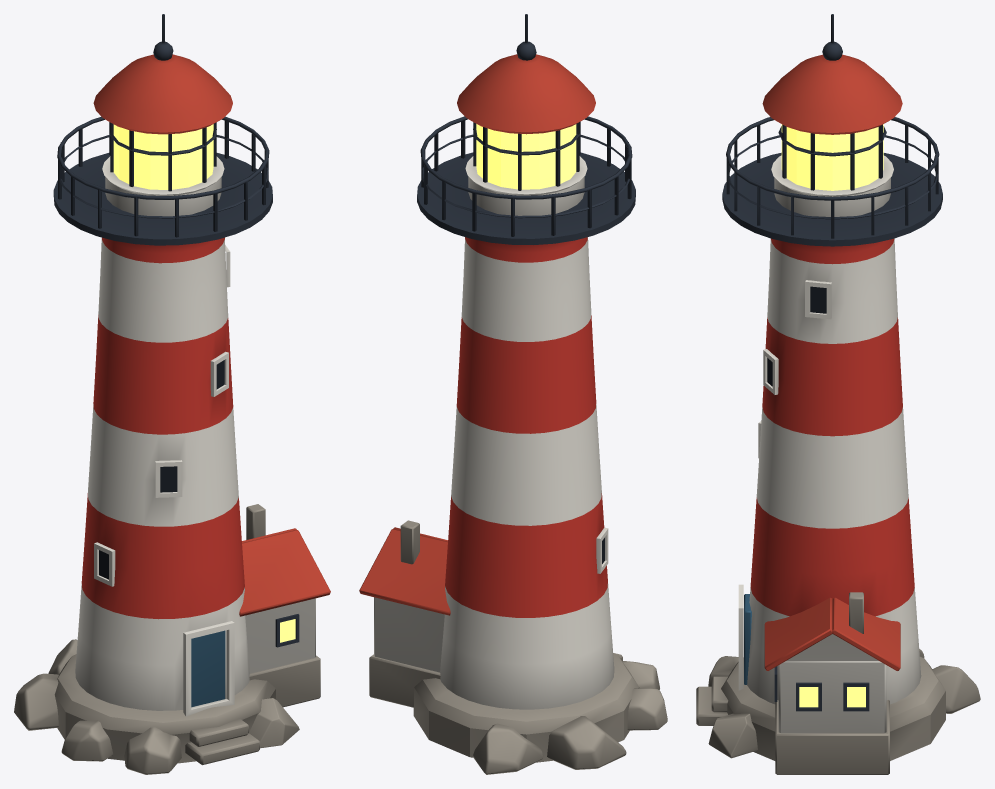
Rendered from lighthouse.glb.
3 views of the same model, side by side, from view 1: azimuth 30°, elevation 25°; view 2: azimuth 150°, elevation 25°; view 3: azimuth 270°, elevation 25° (orthographic).
Parts seen in each view (by area): view 1: Lighthouse Lighthouse white, Lighthouse Lighthouse red, Lighthouse Lighthouse stone, Lighthouse Lighthouse trim, Lighthouse Lighthouse roof, Lighthouse Lighthouse lamp, Lighthouse Lighthouse door; view 2: Lighthouse Lighthouse white, Lighthouse Lighthouse red, Lighthouse Lighthouse stone, Lighthouse Lighthouse trim, Lighthouse Lighthouse roof, Lighthouse Lighthouse lamp; view 3: Lighthouse Lighthouse white, Lighthouse Lighthouse red, Lighthouse Lighthouse stone, Lighthouse Lighthouse trim, Lighthouse Lighthouse roof, Lighthouse Lighthouse lamp, Lighthouse Lighthouse door.
Part boxes in pixels (box(x1,y1,x2,y2)): Lighthouse Lighthouse white: box(75, 156, 315, 716); Lighthouse Lighthouse red: box(81, 237, 244, 619); Lighthouse Lighthouse stone: box(14, 504, 320, 774); Lighthouse Lighthouse trim: box(53, 14, 299, 647); Lighthouse Lighthouse roof: box(93, 54, 330, 616); Lighthouse Lighthouse lamp: box(113, 124, 295, 642); Lighthouse Lighthouse door: box(191, 630, 225, 707); Lighthouse Lighthouse white: box(374, 156, 614, 709); Lighthouse Lighthouse red: box(445, 237, 607, 617); Lighthouse Lighthouse stone: box(369, 520, 667, 774); Lighthouse Lighthouse trim: box(417, 14, 635, 563); Lighthouse Lighthouse roof: box(359, 54, 595, 615); Lighthouse Lighthouse lamp: box(476, 124, 576, 189); Lighthouse Lighthouse white: box(738, 155, 921, 733); Lighthouse Lighthouse red: box(750, 238, 914, 616); Lighthouse Lighthouse stone: box(696, 592, 980, 774); Lighthouse Lighthouse trim: box(722, 14, 942, 711); Lighthouse Lighthouse roof: box(762, 54, 902, 670); Lighthouse Lighthouse lamp: box(781, 124, 883, 707); Lighthouse Lighthouse door: box(744, 594, 751, 684).
Bounding box in the file's own units: 6.78 × 18 × 6.57.
